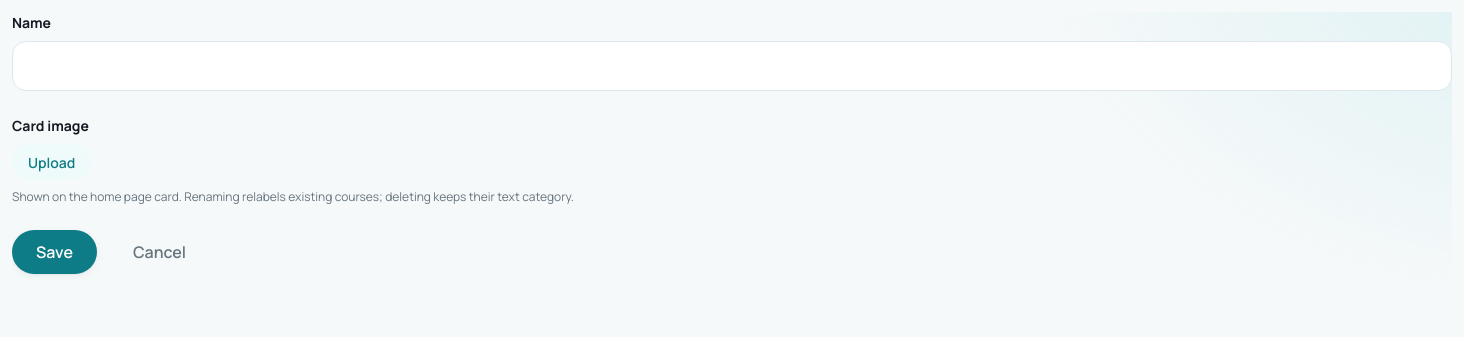
Test: CategoryEditor › shows the server error when saving fails
In the field labelled "Name": (732, 66) [12, 41, 1452, 91], type "Science"
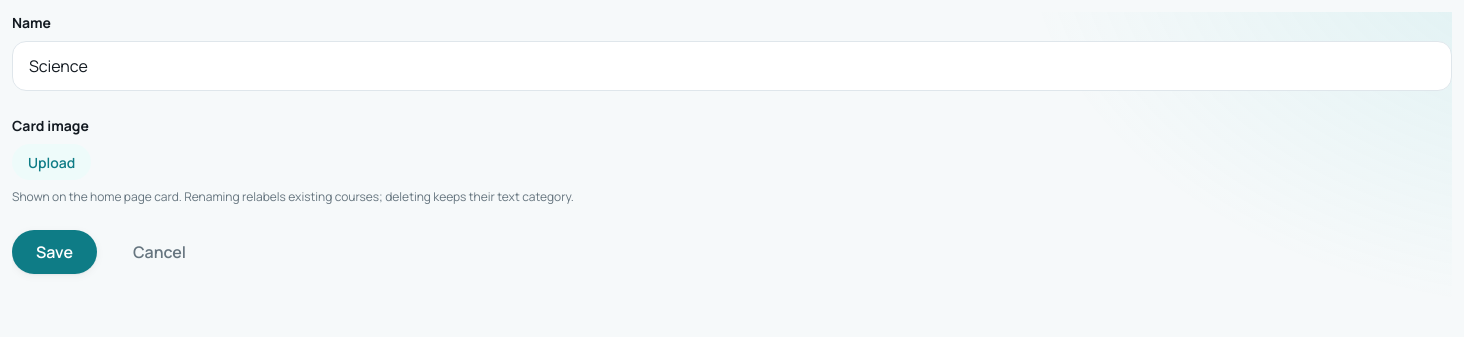
Click the button "Save": (54, 252) [12, 230, 97, 274]
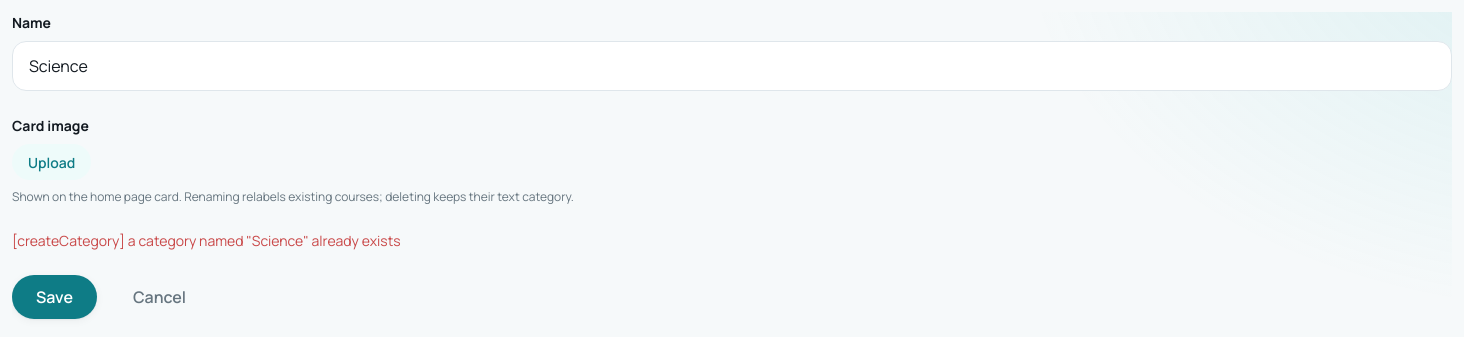
Check: the message reads "[createCategory] a category named \"Science\" already exists", box [12, 231, 401, 250]
